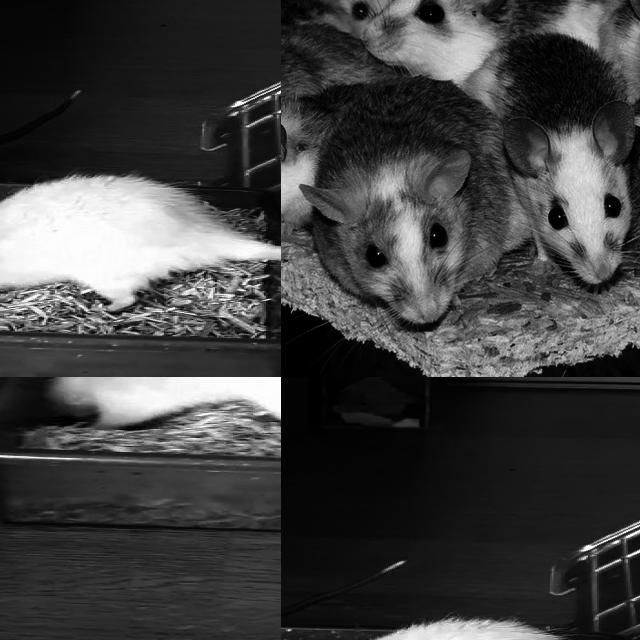rat: (304, 78, 496, 322), (0, 173, 232, 317), (363, 0, 617, 70), (38, 377, 281, 429), (281, 87, 324, 237)
